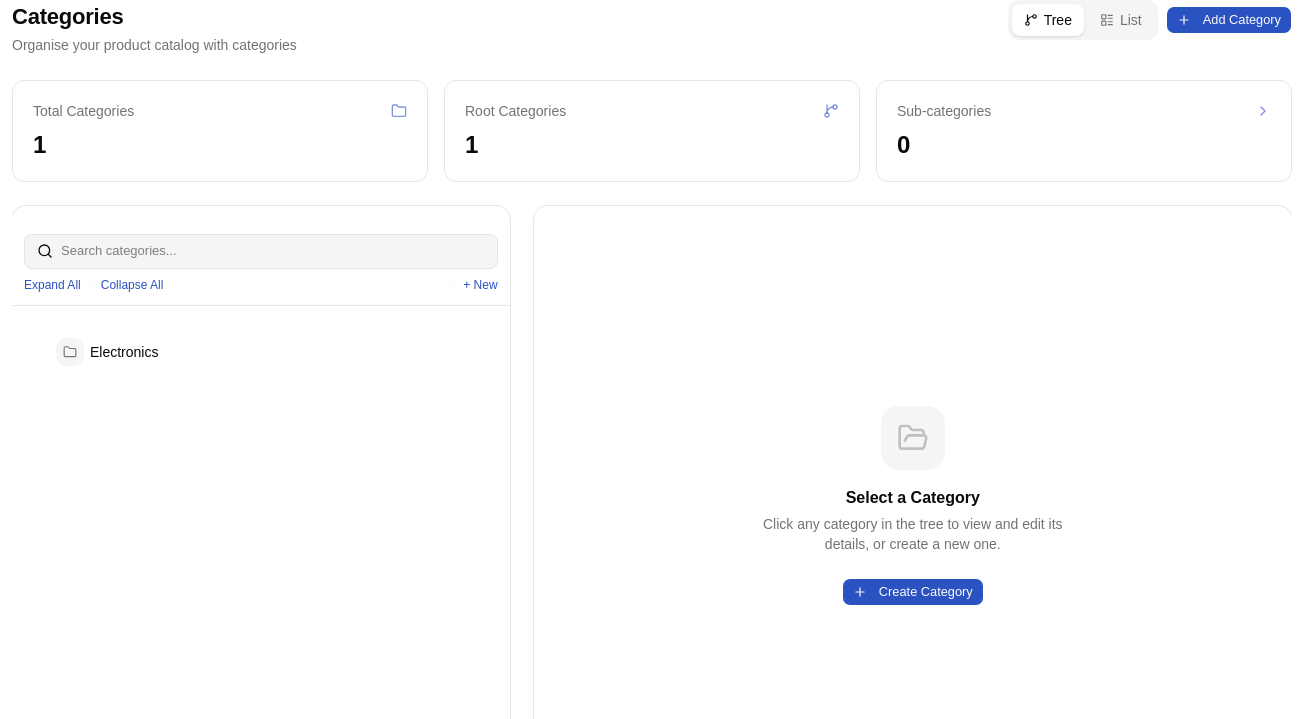
it: Categories Page — CRUD E2E › Update › pre-fills form from getById response when editing from tree
Click the text "Electronics".
click(124, 352)  # box [90,344,158,360]
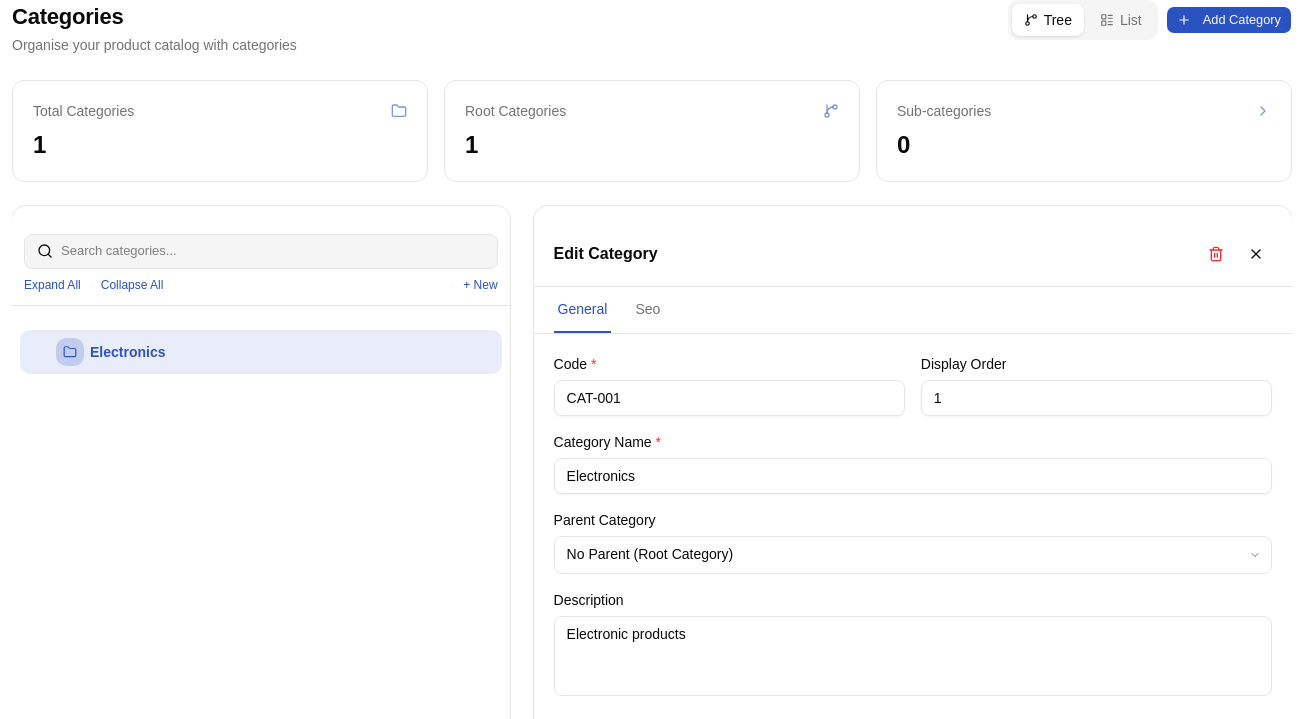
expect the field with placeholder "e.g. CAT-01" below "Code" holds "CAT-001": met, box [554,380,905,416]
